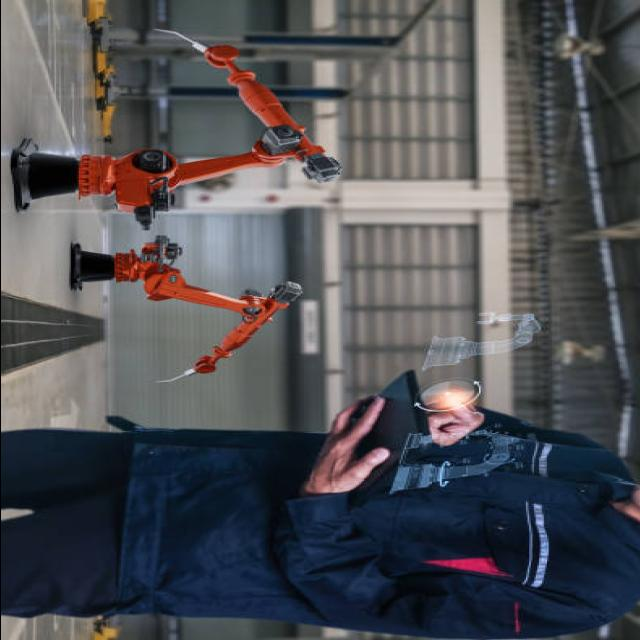Robotic-arm: (11, 26, 347, 226), (66, 237, 306, 396)
